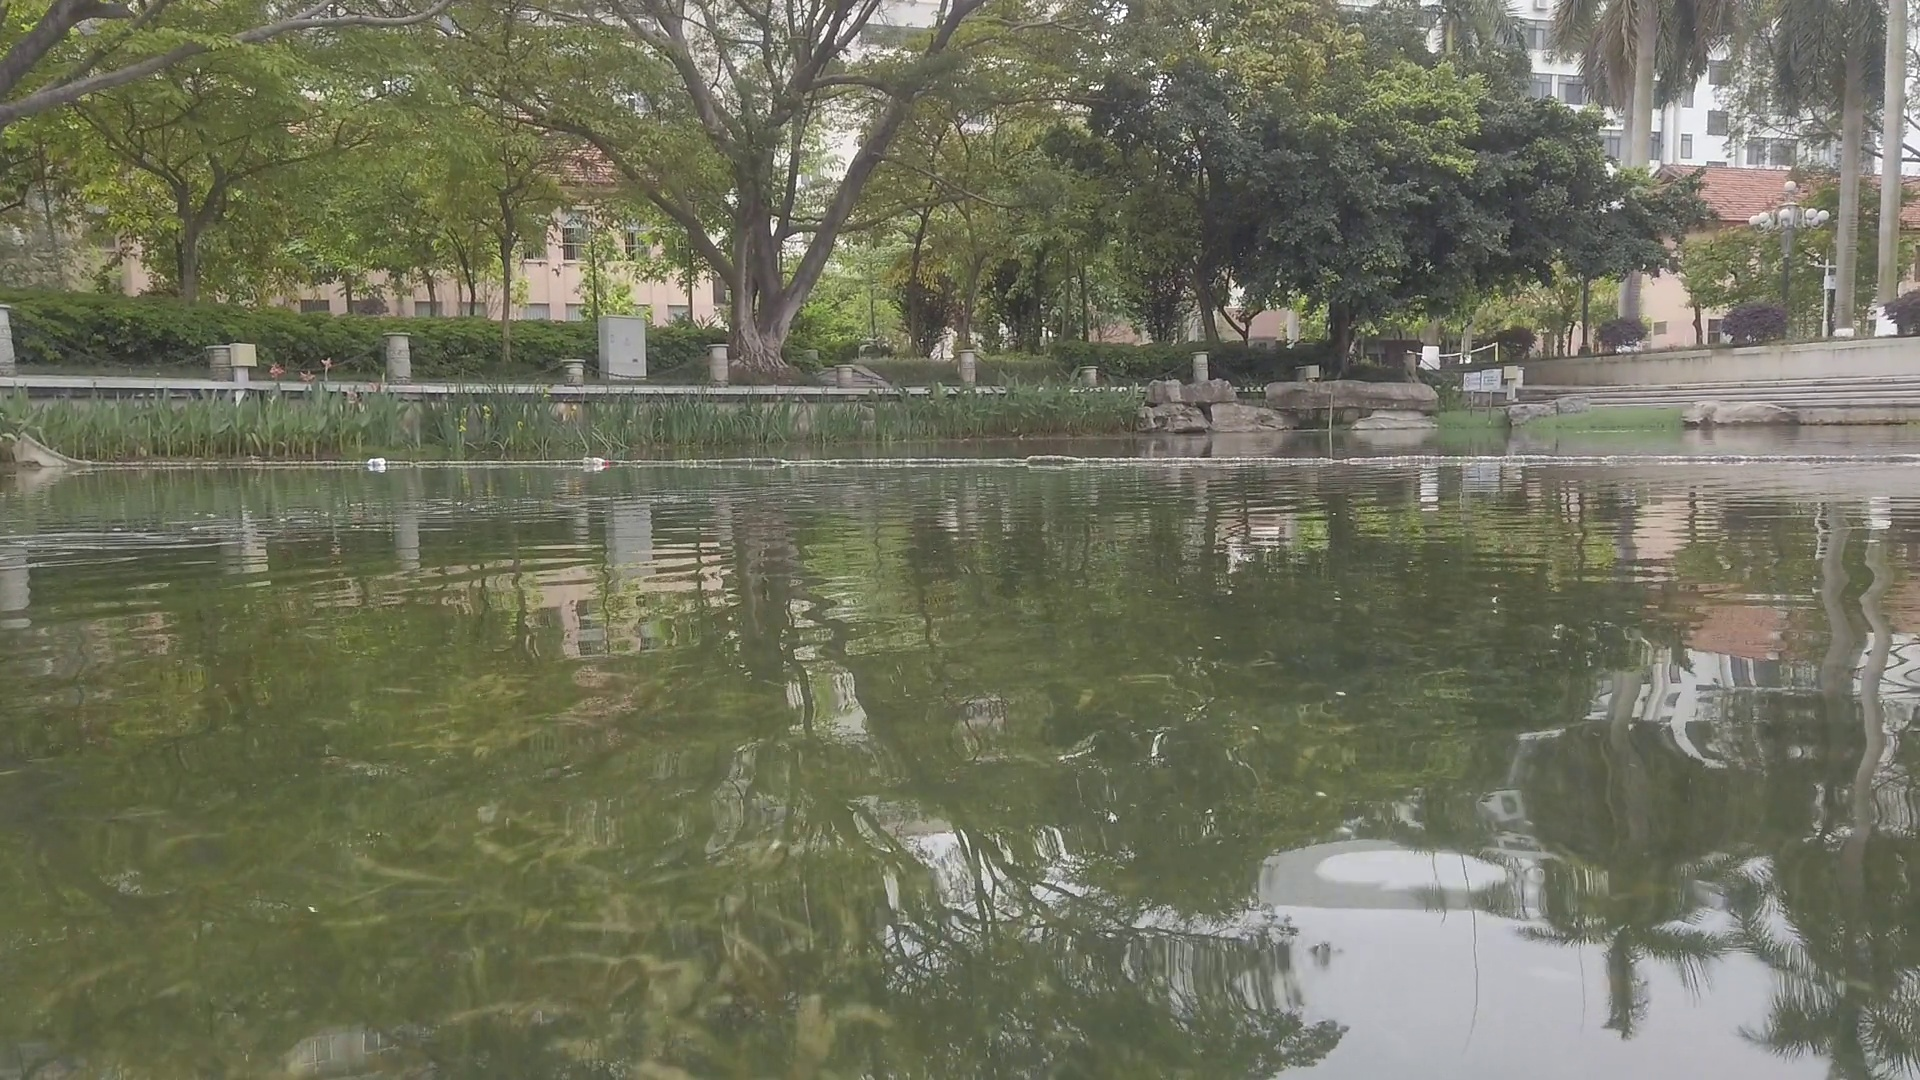bottle: (582, 458, 608, 465), (367, 456, 386, 467)
